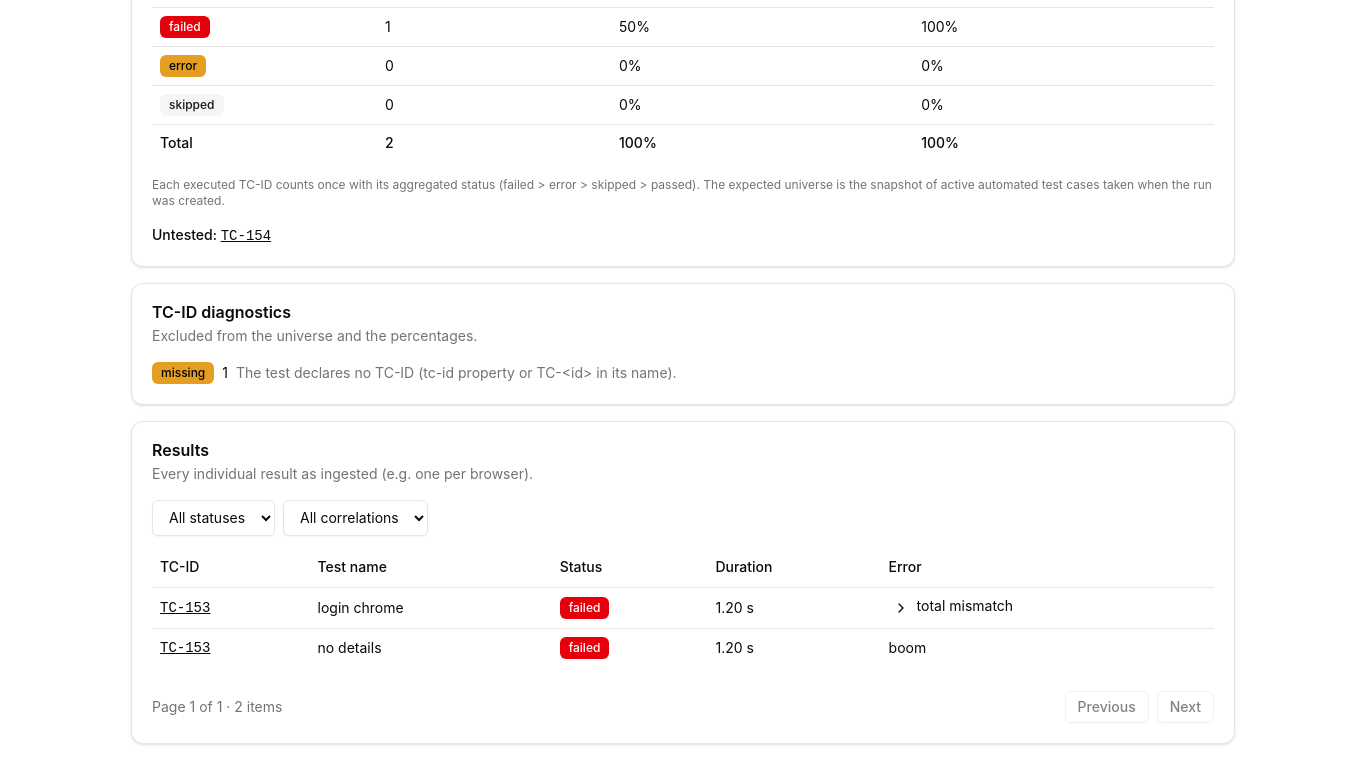
Test: FE-INT-021 result error details › FE-INT-021 expands the full error details of a result (stack traces, every failure) on demand
(page scrolled)
Expected: the text "total mismatch" is shown, [917,596,1013,616]
Expected: the text "tax mismatch" is not shown
Click the button named "Show error details": (901,608) [889,596,913,620]
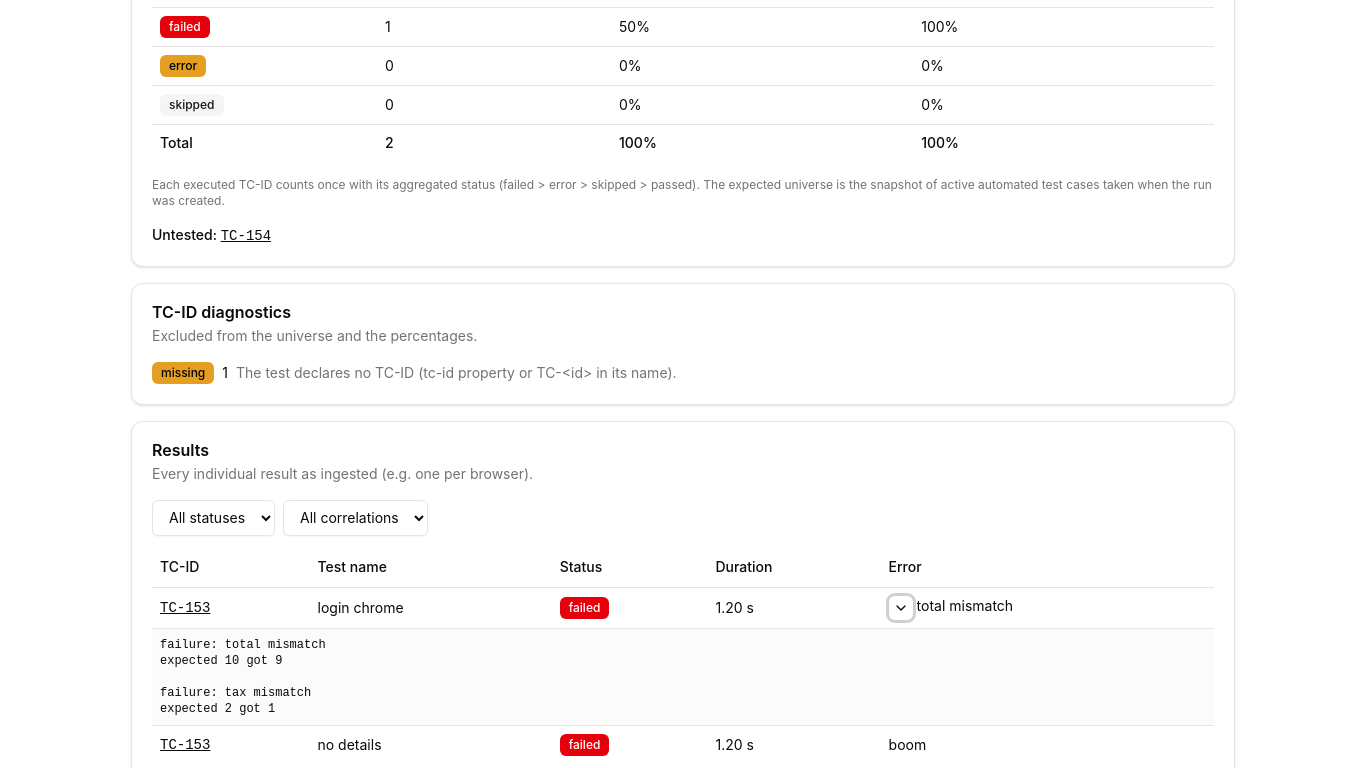
Now the button named "Show error details" is expanded
Click the button named "Hide error details of total mismatch": (901,608) [889,596,913,620]
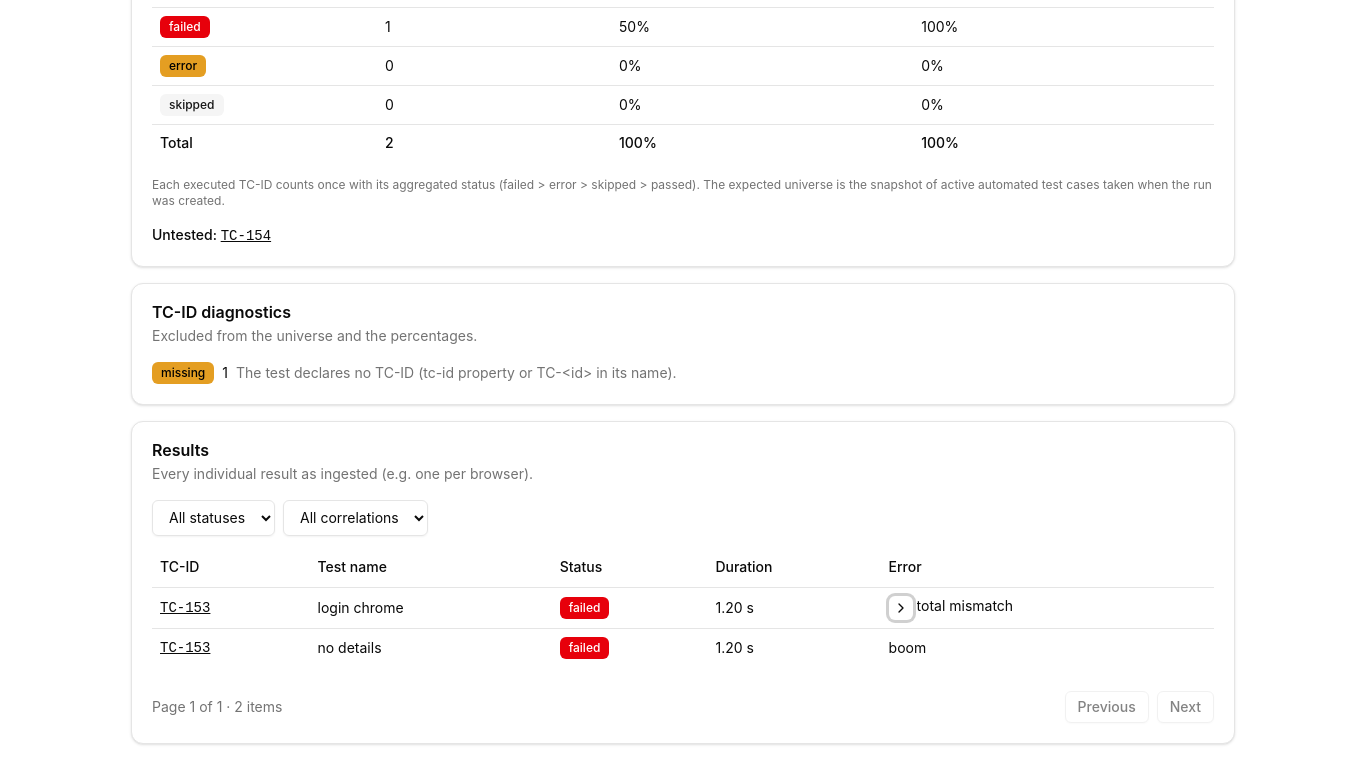
Now the text with test id "error-details" is gone
